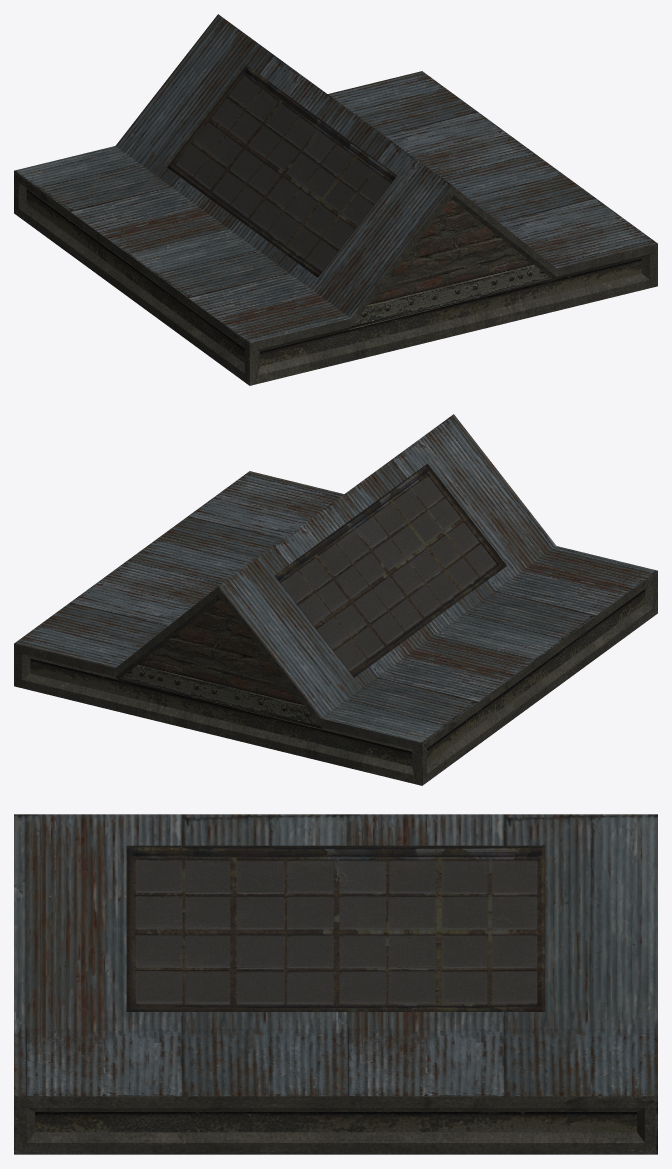
Rendered from roof_bx_1.obj.
3 renders of one model, top to bottom at view 1: azimuth 30°, elevation 25°; view 2: azimuth 150°, elevation 25°; view 3: azimuth 270°, elevation 25°, orthographic. The views are drawn at different scales.
Parts seen in each view (by area): view 1: roof_bx_1; view 2: roof_bx_1; view 3: roof_bx_1.
Boxes of the visible parts, <box> form: roof_bx_1: <box>14,14,657,385</box>; roof_bx_1: <box>14,414,657,785</box>; roof_bx_1: <box>14,814,657,1154</box>.
Bounding box in the file's own units: 4 × 1.4 × 4.
